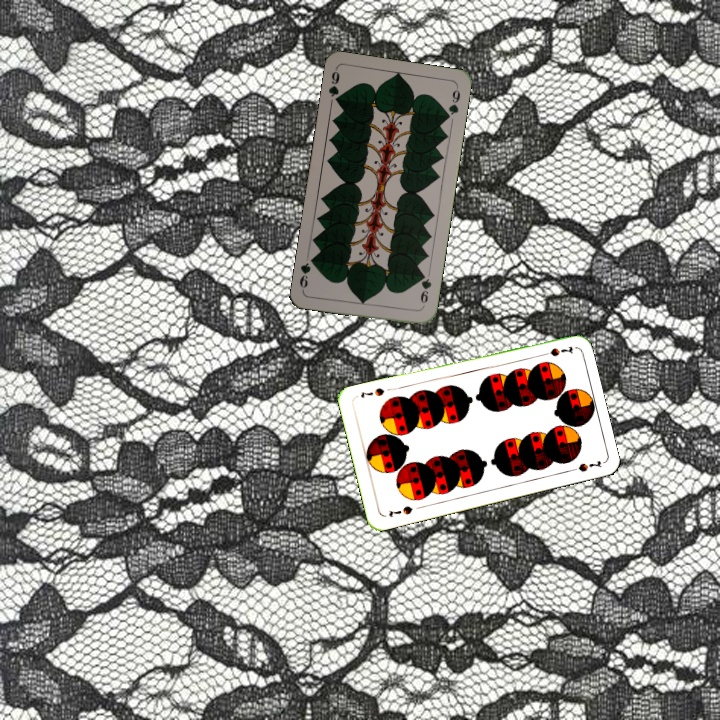G9: (324, 65, 343, 107), (416, 269, 434, 310)
S7: (536, 342, 575, 359), (384, 502, 415, 520)
